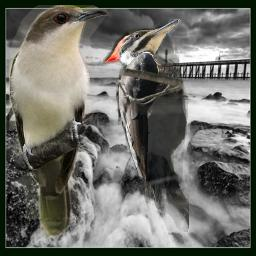Cuckoo: (9, 5, 109, 240)
Woodpecker: (103, 19, 189, 237)
